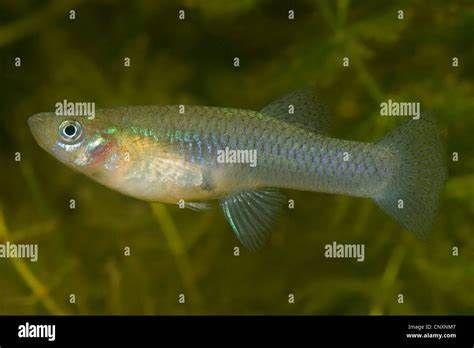Mosquito Fish: (31, 88, 446, 255)
